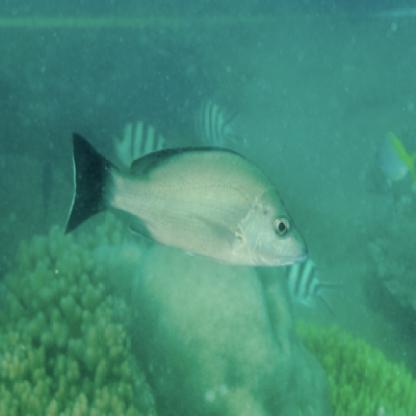snapper: (60, 128, 312, 271)
